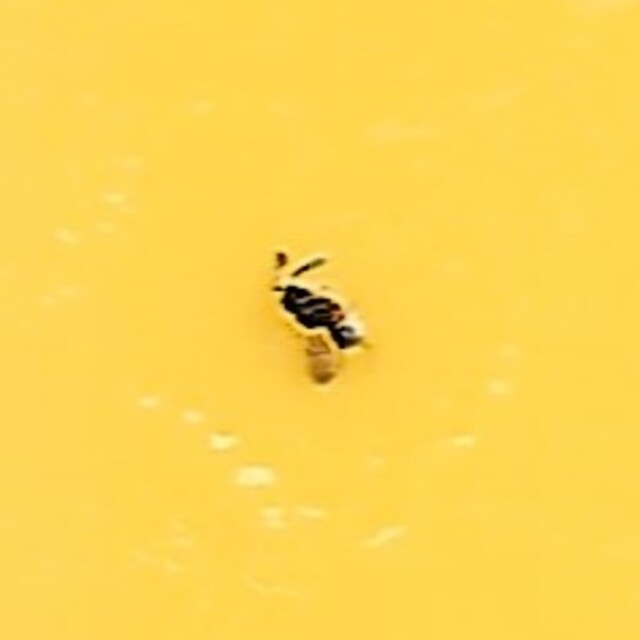Hymenoptera: (271, 251, 369, 389)
